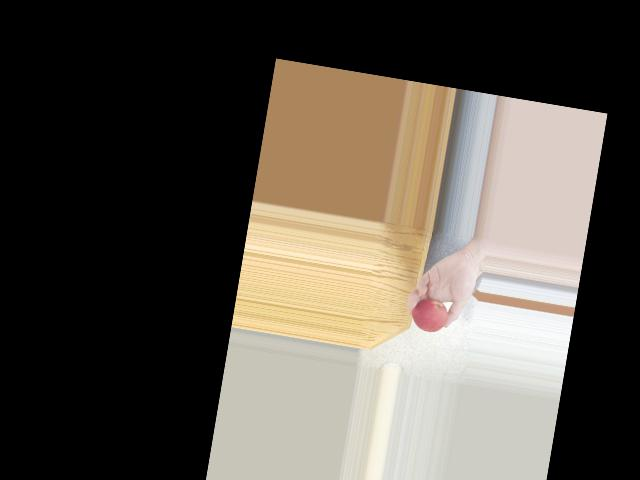apple: (409, 291, 454, 335)
